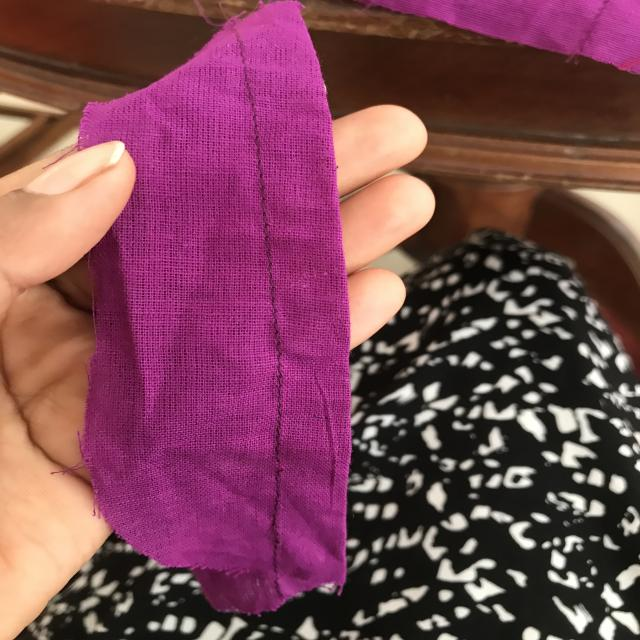good: (235, 175, 289, 285), (258, 360, 304, 440)
